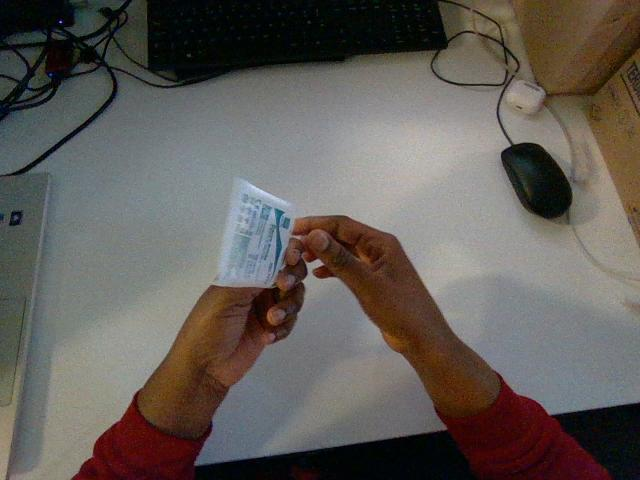gauze: (214, 178, 294, 287)
